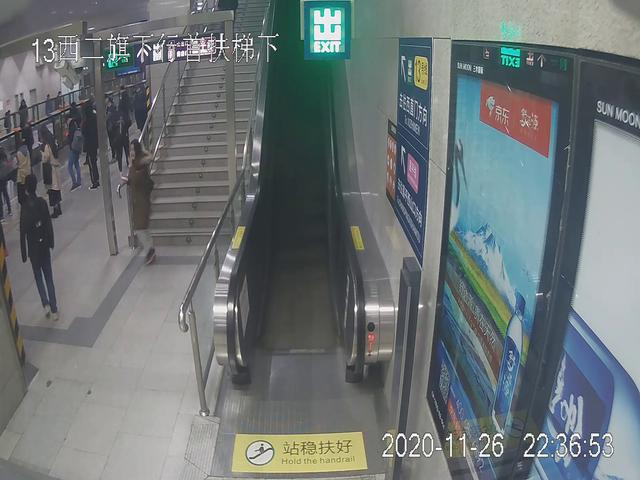person: (14, 172, 66, 317), (127, 136, 160, 270), (39, 125, 68, 218), (64, 112, 83, 198)
